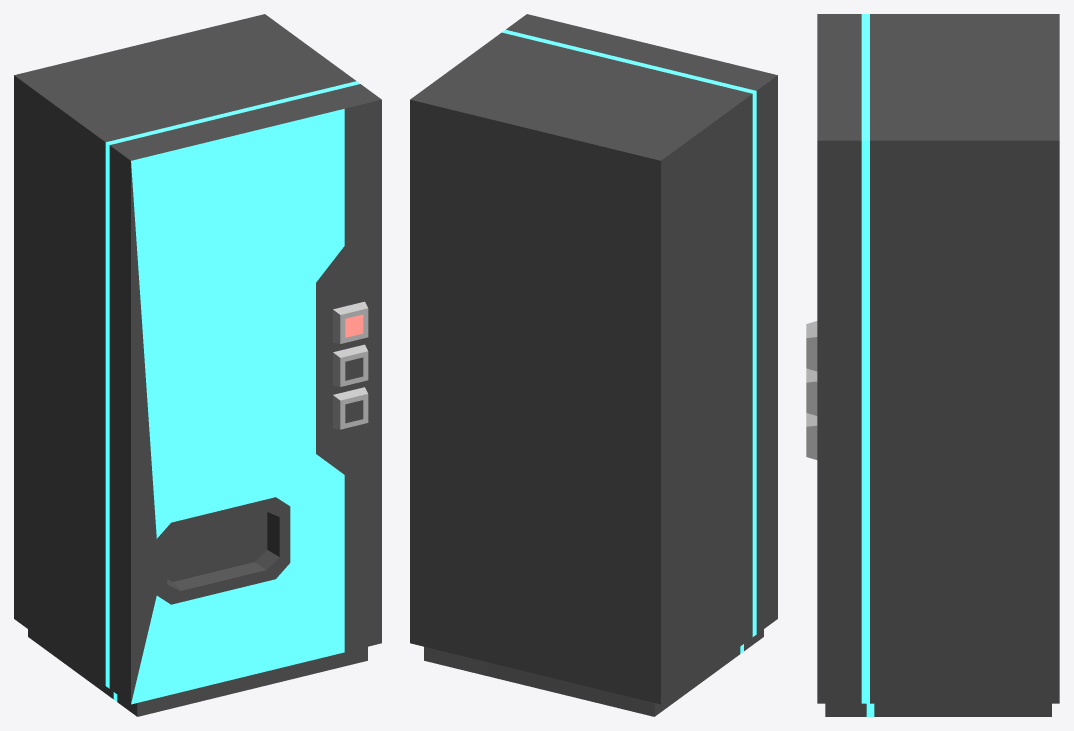
The model's file is vendingMachineA.fbx.
The picture shows the model from 3 angles, left to right: view 1: azimuth 30°, elevation 25°; view 2: azimuth 150°, elevation 25°; view 3: azimuth 270°, elevation 25°; orthographic projection. The views are drawn at different scales.
Visible parts, largest first — view 1: SM_Prop_VendingMachine_01; view 2: SM_Prop_VendingMachine_01; view 3: SM_Prop_VendingMachine_01.
Part boxes in pixels (bbox=[...]): SM_Prop_VendingMachine_01: bbox=[14, 14, 381, 716]; SM_Prop_VendingMachine_01: bbox=[410, 14, 777, 716]; SM_Prop_VendingMachine_01: bbox=[806, 14, 1059, 716].
Bounding box in the file's own units: 75.72 × 162 × 63.97.
